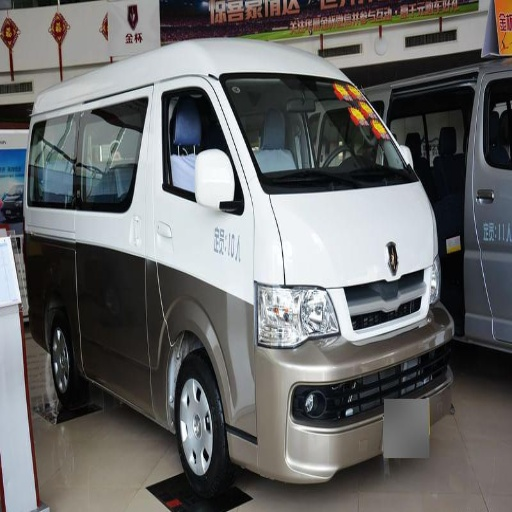front_bumper: (231, 267, 454, 483)
front_glass: (220, 75, 413, 193)
front_right_door: (149, 82, 253, 271)
front_right_light: (258, 285, 339, 347)
hood: (271, 184, 434, 287)
tailgate: (30, 138, 102, 204)
trunk: (136, 280, 213, 380), (28, 192, 130, 263)
